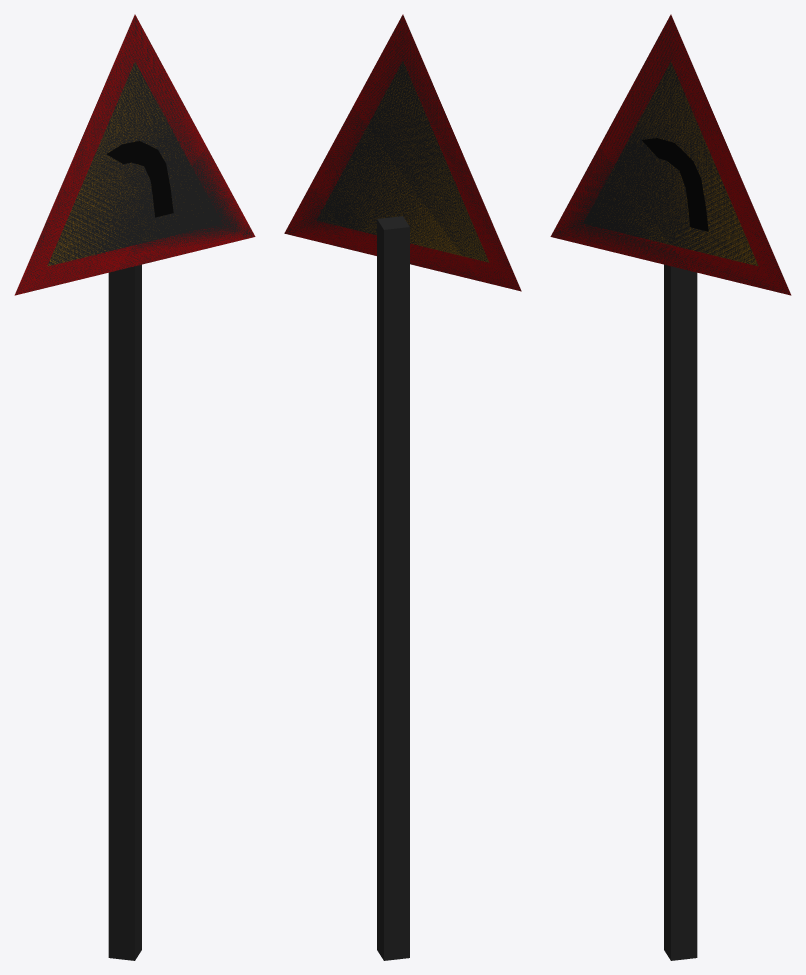
File: sharpleftturn.obj
3 views of the same model, side by side, from view 1: azimuth 30°, elevation 25°; view 2: azimuth 150°, elevation 25°; view 3: azimuth 330°, elevation 25° (orthographic).
Parts seen in each view (by area): view 1: Cylinder.000; view 2: Cylinder.000; view 3: Cylinder.000.
Part boxes in pixels (x1,y1,x2,y2): Cylinder.000: [14, 14, 255, 960]; Cylinder.000: [284, 14, 521, 960]; Cylinder.000: [550, 14, 791, 960].
Bounding box in the file's own units: 0.8584 × 3.22 × 0.1218.
